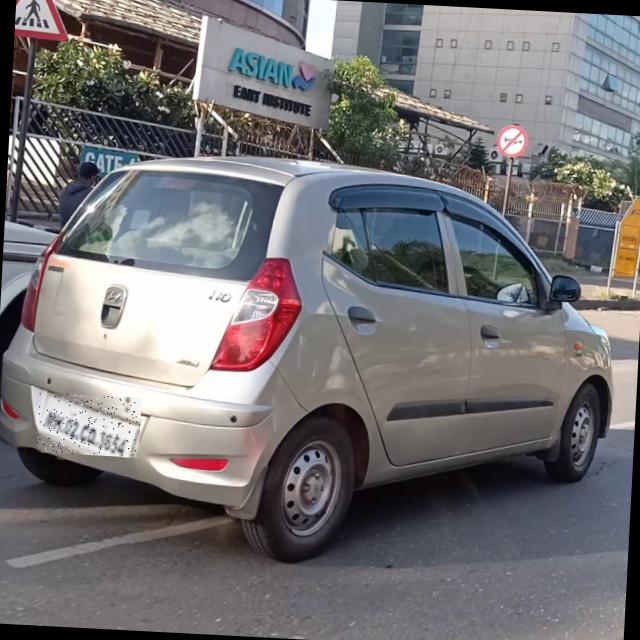Plate: (38, 394, 143, 459)
